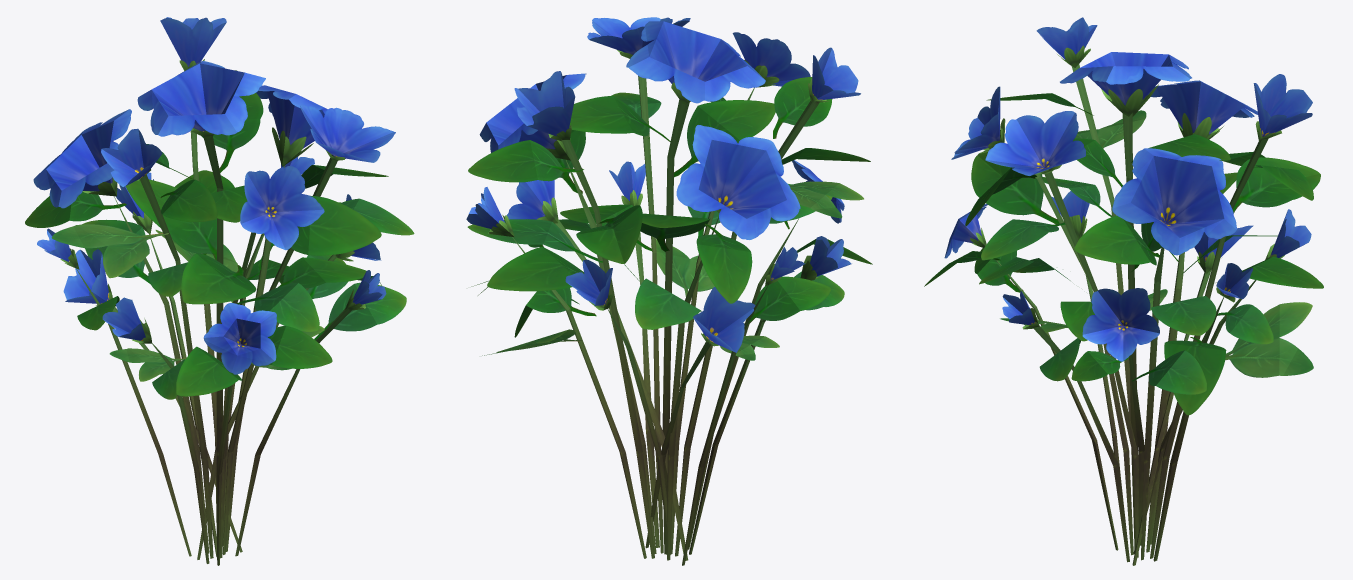
The model's file is P_FlowerAiqianniu_04.obj.
3 renders of one model, left to right at view 1: azimuth 30°, elevation 25°; view 2: azimuth 150°, elevation 25°; view 3: azimuth 270°, elevation 25°, orthographic. The views are drawn at different scales.
Bounding box in the file's own units: 0.3457 × 0.4802 × 0.3699.
1 material, 1 textured.
